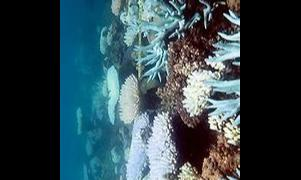bleached_corals: (79, 59, 205, 180), (184, 31, 240, 144), (128, 110, 179, 180)
